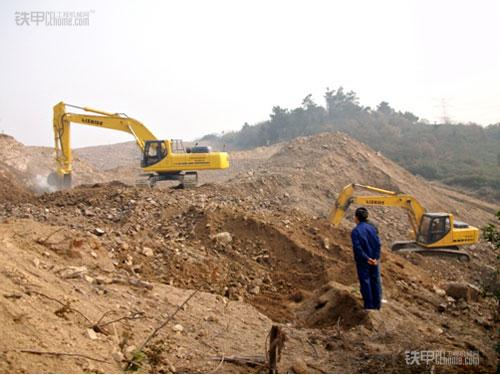excavator: (44, 98, 230, 197), (325, 176, 486, 265)
